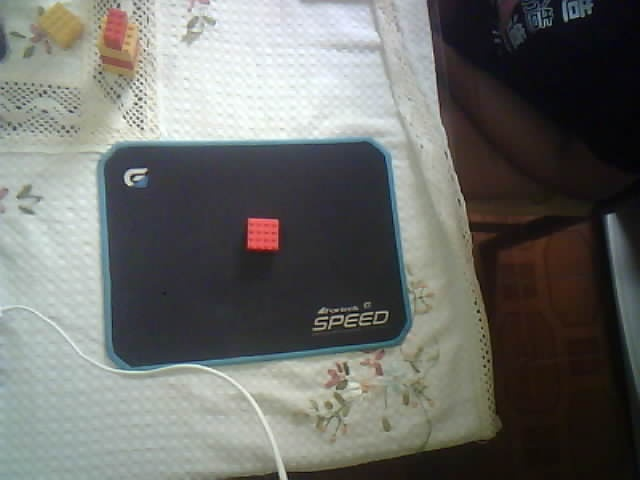lego: (242, 217, 281, 253)
